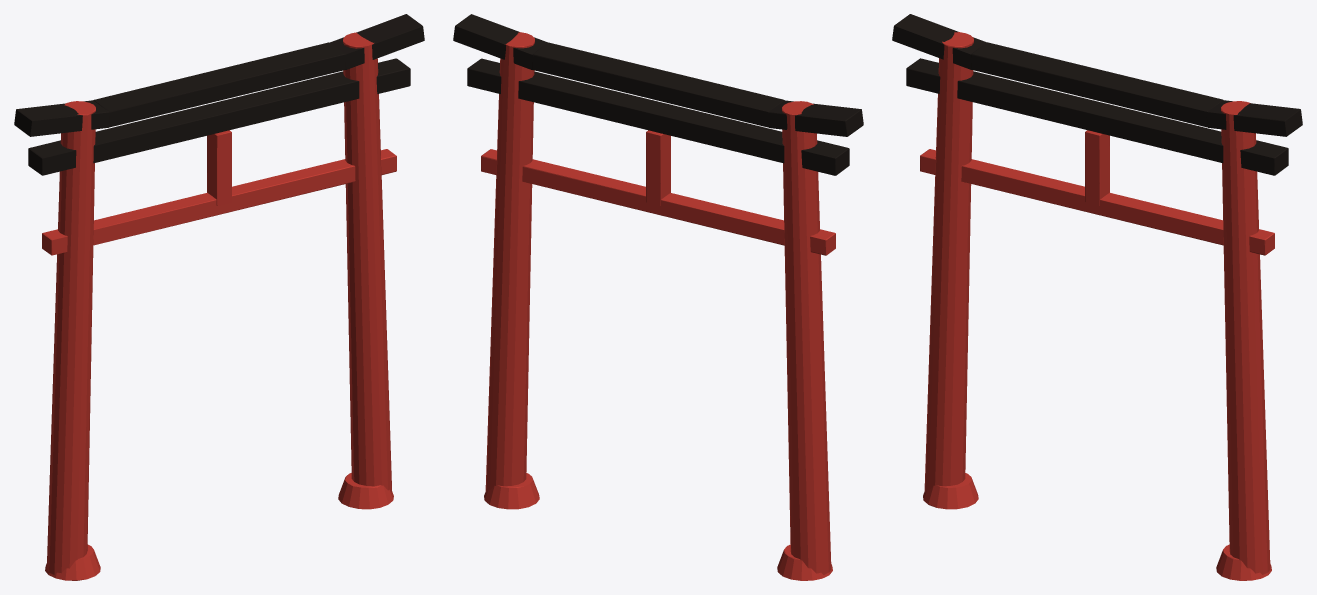
File: prop_torii_lod1.glb
3 views of the same model, side by side, from view 1: azimuth 30°, elevation 25°; view 2: azimuth 150°, elevation 25°; view 3: azimuth 330°, elevation 25° (orthographic).
Visible parts, largest first — view 1: prop_torii_lod1; view 2: prop_torii_lod1; view 3: prop_torii_lod1.
Part boxes in pixels (x1,y1,x2,y2): prop_torii_lod1: [14, 14, 424, 580]; prop_torii_lod1: [453, 14, 863, 580]; prop_torii_lod1: [892, 14, 1302, 580].
Bounding box in the file's own units: 2.15 × 2.43 × 0.2663.
